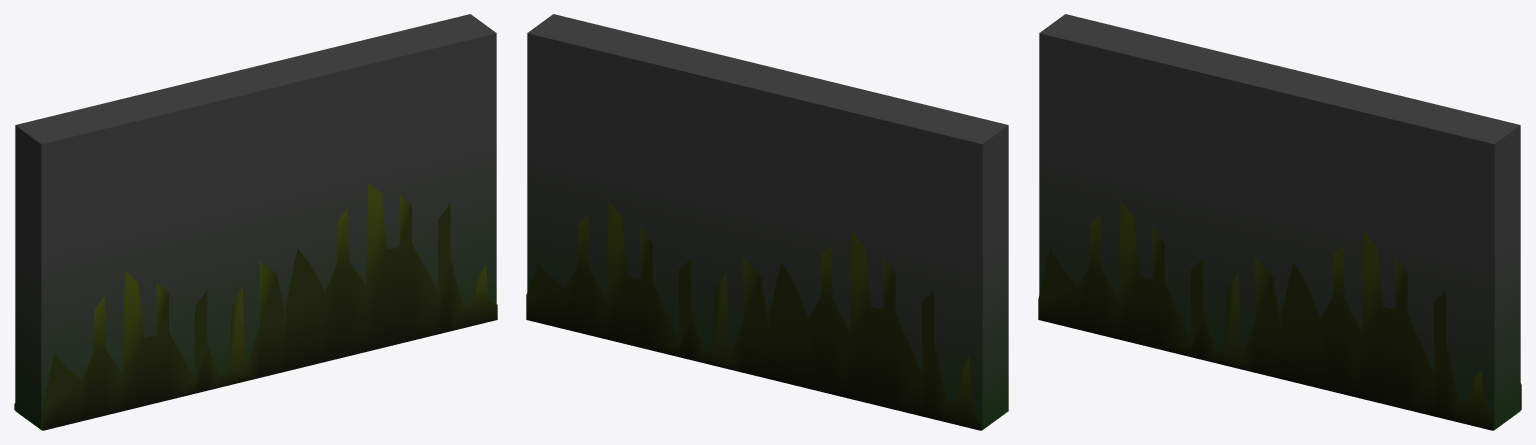
The model's file is lib-laby-block-wall-a.fbx.
3 views of the same model, side by side, from view 1: azimuth 30°, elevation 25°; view 2: azimuth 150°, elevation 25°; view 3: azimuth 330°, elevation 25° (orthographic).
Visible parts, largest first — view 1: lib_laby_block_wall_a:pCube2; view 2: lib_laby_block_wall_a:pCube2; view 3: lib_laby_block_wall_a:pCube2.
Part boxes in pixels (box(x1,y1,x2,y2)): lib_laby_block_wall_a:pCube2: box(14, 14, 497, 430); lib_laby_block_wall_a:pCube2: box(526, 14, 1008, 430); lib_laby_block_wall_a:pCube2: box(1038, 14, 1521, 430).
Size of the model in its own units: 15 by 9 by 1.61.
